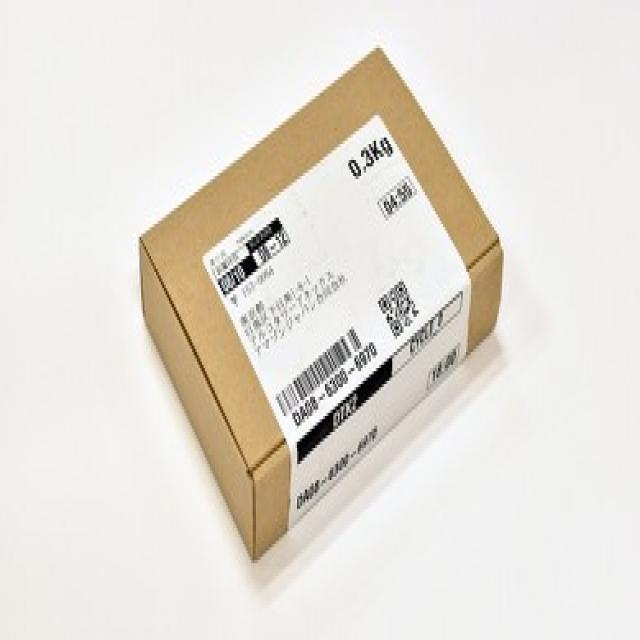box: (136, 39, 510, 568)
